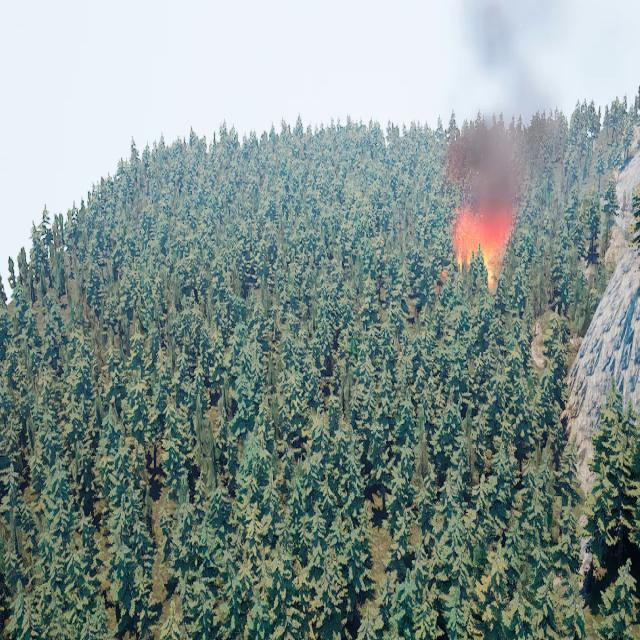fire: (453, 215, 504, 292)
smoke: (440, 0, 552, 246)
